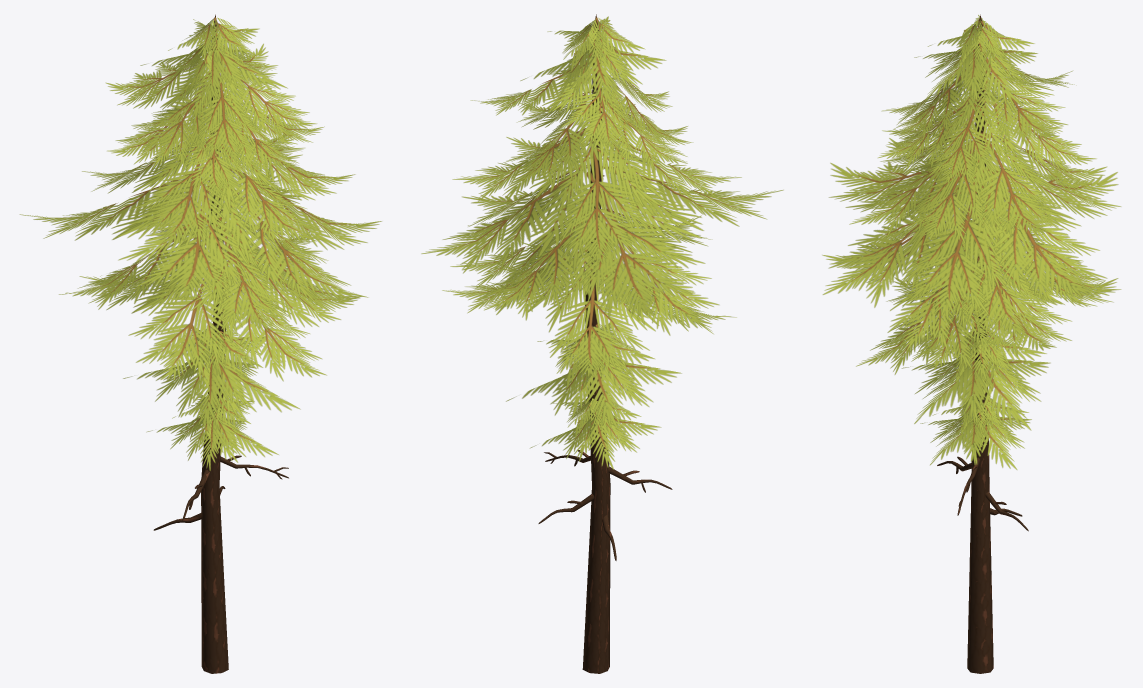
Rendered from pinetree_2.glb.
The picture shows the model from 3 angles, left to right: view 1: azimuth 30°, elevation 25°; view 2: azimuth 150°, elevation 25°; view 3: azimuth 270°, elevation 25°; orthographic projection.
Parts seen in each view (by area): view 1: PineTree_2; view 2: PineTree_2; view 3: PineTree_2.
Part boxes in pixels (left/top/right/bottom): PineTree_2: left=19, top=14, right=381, bottom=673; PineTree_2: left=421, top=14, right=783, bottom=673; PineTree_2: left=822, top=14, right=1121, bottom=673.
Size of the model in its own units: 3.28 by 6.91 by 2.98.
2 materials, 2 textured.
